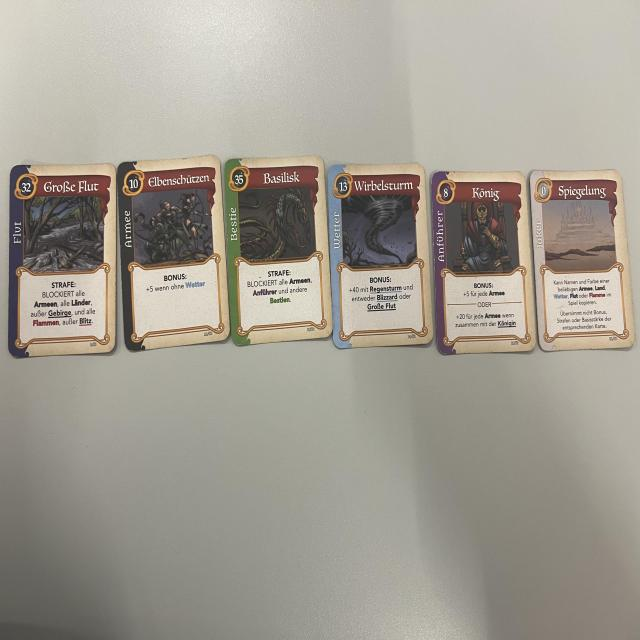Basilisk: (223, 154, 331, 352)
Elven Archers: (118, 144, 231, 353)
Great Flood: (7, 164, 116, 365)
King: (430, 171, 535, 366)
Mirage: (529, 170, 636, 355)
Whirlwind: (326, 157, 437, 349)
